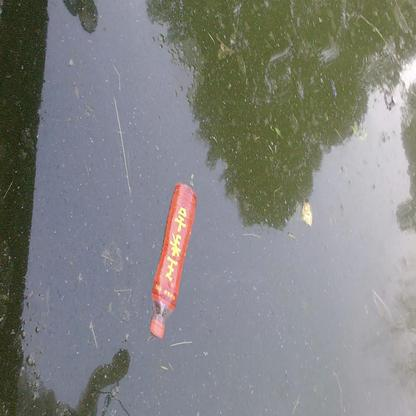plastic bottle: (149, 183, 197, 339)
